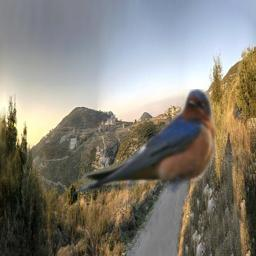Swallow: (71, 89, 216, 195)
